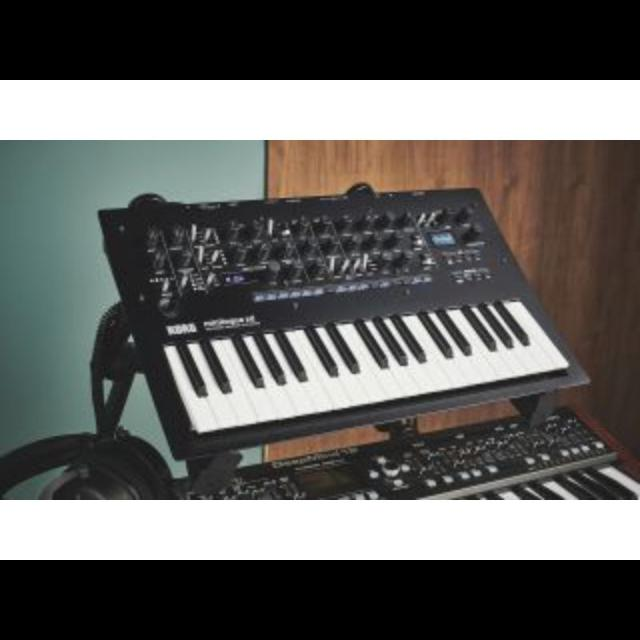Electronic-Keyboard: (87, 190, 599, 432)
